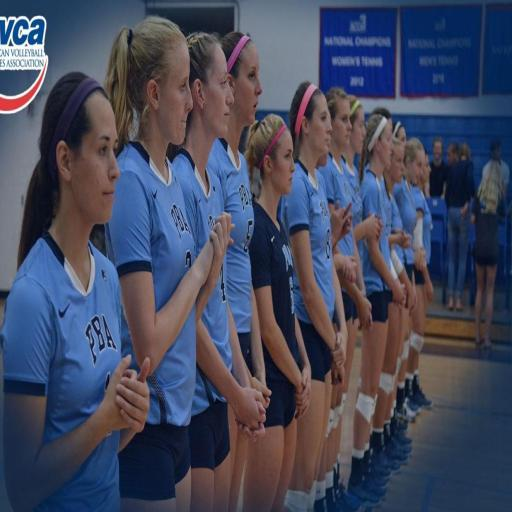person: (0, 73, 149, 510), (106, 17, 230, 510), (282, 82, 346, 510), (243, 115, 310, 511), (349, 114, 405, 506), (208, 32, 266, 392), (188, 258, 250, 511), (326, 223, 371, 511), (407, 139, 433, 408), (471, 159, 505, 348), (446, 147, 474, 311), (483, 139, 510, 200), (426, 137, 448, 198)
